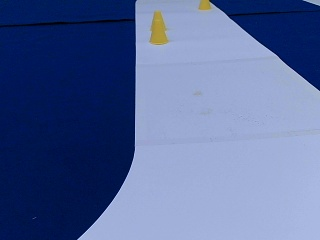cone: (149, 15, 169, 45), (152, 10, 164, 20), (198, 0, 210, 9)
